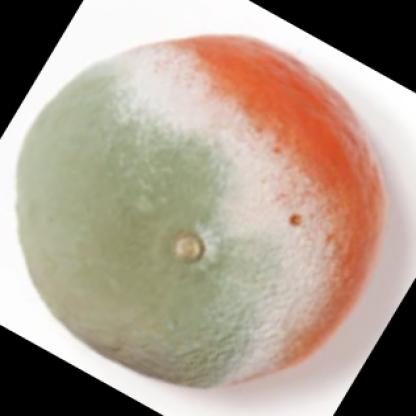rotten: (15, 36, 384, 385)
